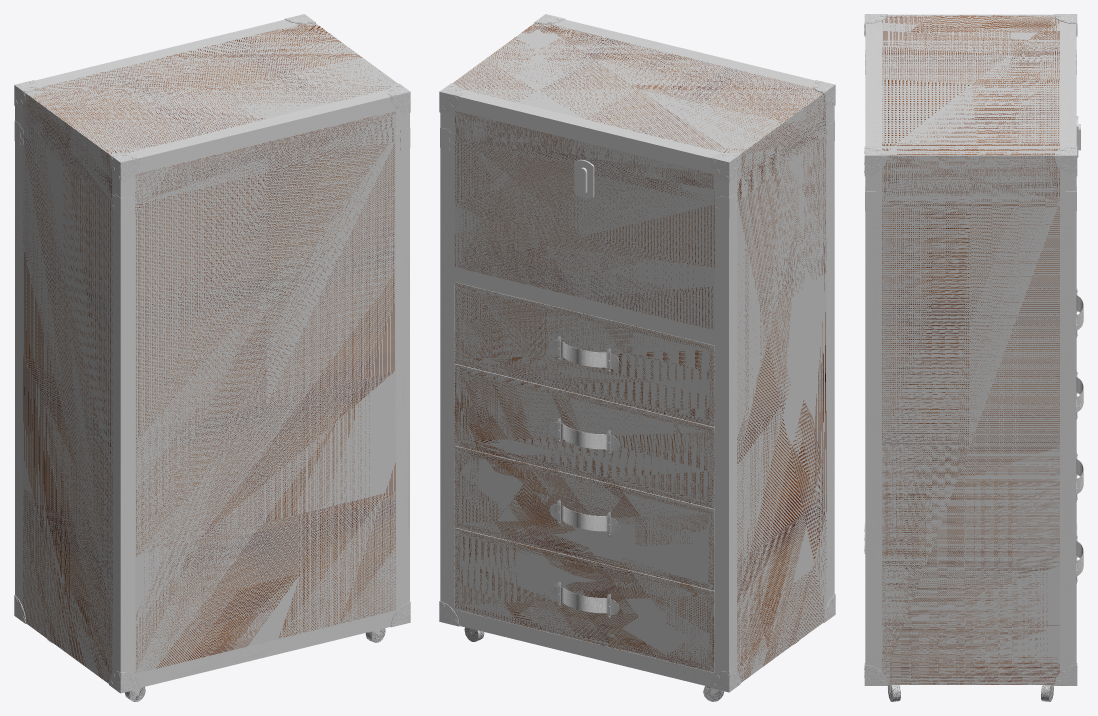
3 views of the same model, side by side, from view 1: azimuth 30°, elevation 25°; view 2: azimuth 150°, elevation 25°; view 3: azimuth 270°, elevation 25° (orthographic).
Parts seen in each view (by area): view 1: mesh2_mesh2-geometry, mesh43_mesh43-geometry, mesh20_mesh20-geometry, mesh45_mesh45-geometry, mesh19_mesh19-geometry, mesh44_mesh44-geometry, mesh30_mesh30-geometry, mesh40_mesh40-geometry; view 2: mesh3_mesh3-geometry, mesh2_mesh2-geometry, mesh43_mesh43-geometry, mesh19_mesh19-geometry, mesh44_mesh44-geometry, mesh20_mesh20-geometry, mesh8_mesh8-geometry, mesh45_mesh45-geometry, mesh40_mesh40-geometry, mesh30_mesh30-geometry; view 3: mesh2_mesh2-geometry, mesh43_mesh43-geometry, mesh19_mesh19-geometry, mesh20_mesh20-geometry, mesh45_mesh45-geometry, mesh44_mesh44-geometry, mesh40_mesh40-geometry, mesh30_mesh30-geometry, mesh8_mesh8-geometry, mesh49_mesh49-geometry.
Part boxes in pixels (box(x1,y1,x2,y2)): mesh2_mesh2-geometry: box(23, 137, 395, 683); mesh43_mesh43-geometry: box(23, 23, 397, 204); mesh20_mesh20-geometry: box(112, 140, 409, 687); mesh45_mesh45-geometry: box(112, 89, 409, 205); mesh19_mesh19-geometry: box(15, 135, 23, 607); mesh44_mesh44-geometry: box(15, 19, 298, 136); mesh30_mesh30-geometry: box(14, 14, 410, 627); mesh40_mesh40-geometry: box(14, 80, 410, 693); mesh3_mesh3-geometry: box(455, 282, 714, 672); mesh2_mesh2-geometry: box(454, 137, 826, 682); mesh43_mesh43-geometry: box(452, 23, 826, 204); mesh19_mesh19-geometry: box(440, 140, 737, 686); mesh44_mesh44-geometry: box(440, 89, 737, 205); mesh20_mesh20-geometry: box(826, 135, 834, 606); mesh8_mesh8-geometry: box(549, 340, 619, 614); mesh45_mesh45-geometry: box(551, 19, 834, 136); mesh40_mesh40-geometry: box(439, 14, 835, 626); mesh30_mesh30-geometry: box(439, 80, 835, 692); mesh2_mesh2-geometry: box(882, 201, 1059, 684); mesh43_mesh43-geometry: box(882, 14, 1059, 200); mesh19_mesh19-geometry: box(1060, 201, 1076, 671); mesh20_mesh20-geometry: box(865, 201, 881, 671); mesh45_mesh45-geometry: box(865, 21, 881, 200); mesh44_mesh44-geometry: box(1060, 21, 1076, 200); mesh40_mesh40-geometry: box(864, 14, 1077, 685); mesh30_mesh30-geometry: box(864, 14, 1077, 685); mesh8_mesh8-geometry: box(1076, 293, 1083, 579); mesh49_mesh49-geometry: box(888, 685, 1053, 701).
Bounding box in the file's own units: 0.4582 × 0.8369 × 0.2994.
